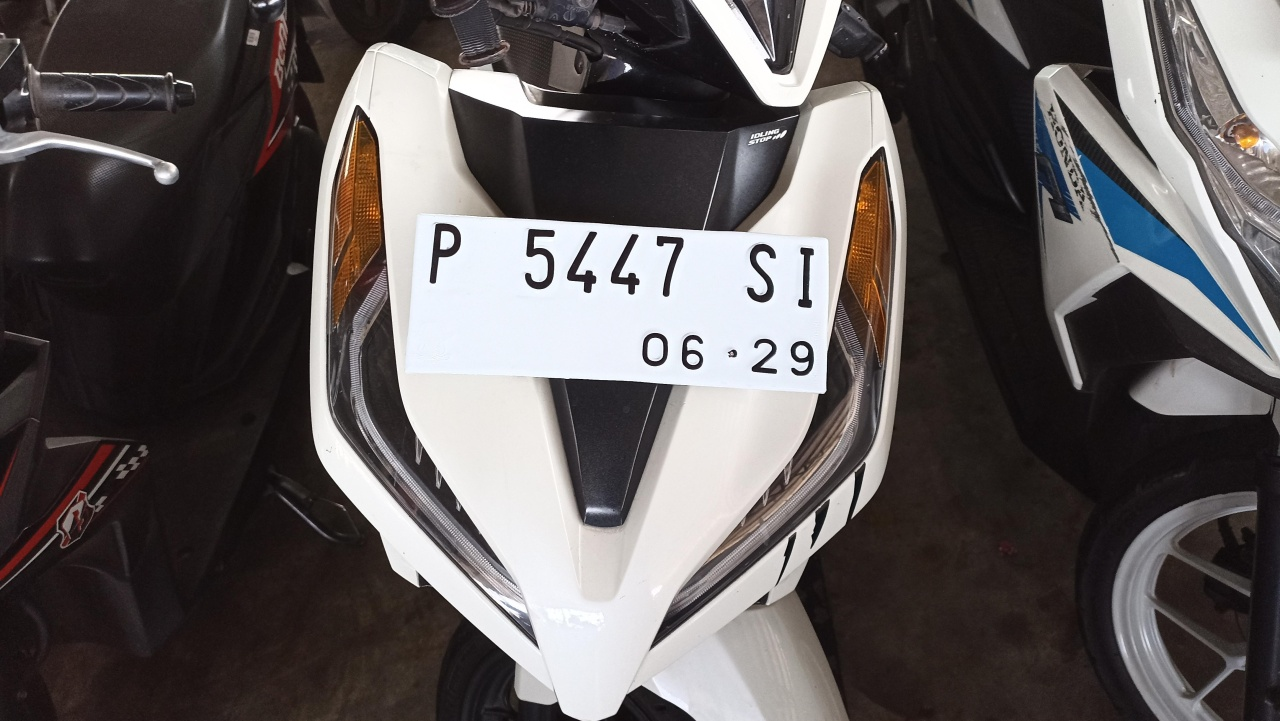plate: (405, 213, 828, 392)
